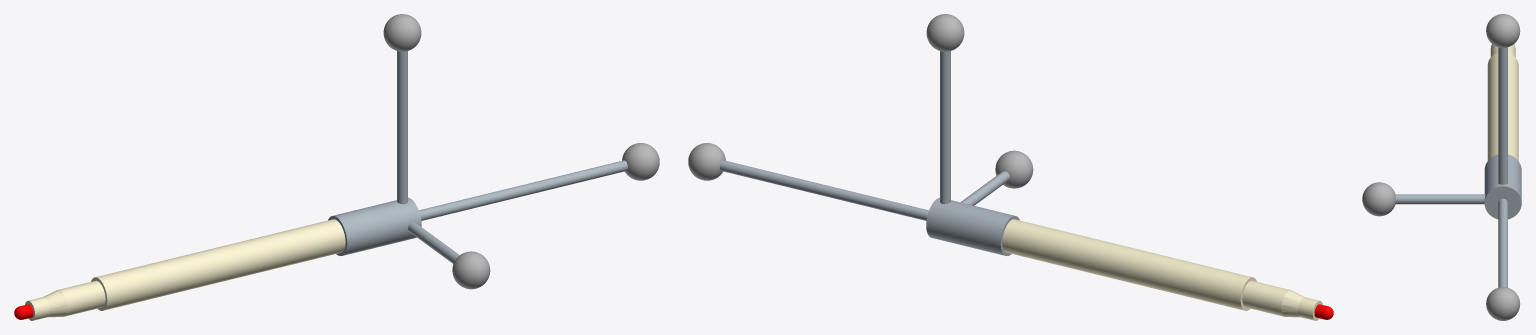
The model's file is pen.fbx.
3 renders of one model, left to right at view 1: azimuth 30°, elevation 25°; view 2: azimuth 150°, elevation 25°; view 3: azimuth 270°, elevation 25°, orthographic. The views are drawn at different scales.
Parts seen in each view (by area): view 1: pCylinder3, pCylinder2, pCylinder10, pCylinder9, pSphere4, pSphere5, pCylinder4, pSphere3, pCylinder1, pCylinder8; view 2: pCylinder3, pCylinder2, pCylinder10, pCylinder9, pSphere5, pCylinder4, pSphere3, pSphere4, pCylinder1, pCylinder8; view 3: pCylinder3, pCylinder2, pCylinder9, pCylinder1, pSphere4, pSphere3, pSphere5, pCylinder10, pCylinder4.
Part boxes in pixels (x1,y1,x2,y2): pCylinder3: (91,219,345,310); pCylinder2: (328,197,421,255); pCylinder10: (419,160,627,220); pCylinder9: (397,51,407,204); pSphere4: (452,251,490,289); pSphere5: (383,14,421,51); pCylinder4: (57,280,105,316); pSphere3: (622,143,659,180); pCylinder1: (408,222,459,263); pCylinder8: (43,290,66,317); pCylinder3: (1002,219,1256,310); pCylinder2: (926,197,1019,255); pCylinder10: (720,160,928,220); pCylinder9: (940,51,950,204); pSphere5: (926,14,964,51); pCylinder4: (1242,280,1290,316); pSphere3: (688,143,725,180); pSphere4: (995,150,1033,188); pCylinder1: (960,171,1009,205); pCylinder8: (1281,290,1304,317); pCylinder3: (1487,52,1518,160); pCylinder2: (1484,154,1521,219); pCylinder9: (1498,47,1507,184); pCylinder1: (1395,194,1485,204); pSphere4: (1362,182,1395,216); pSphere3: (1486,287,1520,320); pSphere5: (1486,14,1520,47); pCylinder10: (1498,198,1507,287); pCylinder4: (1490,44,1515,57).
Size of the model in its own units: 0.2155 by 0.0715 by 0.0515.
